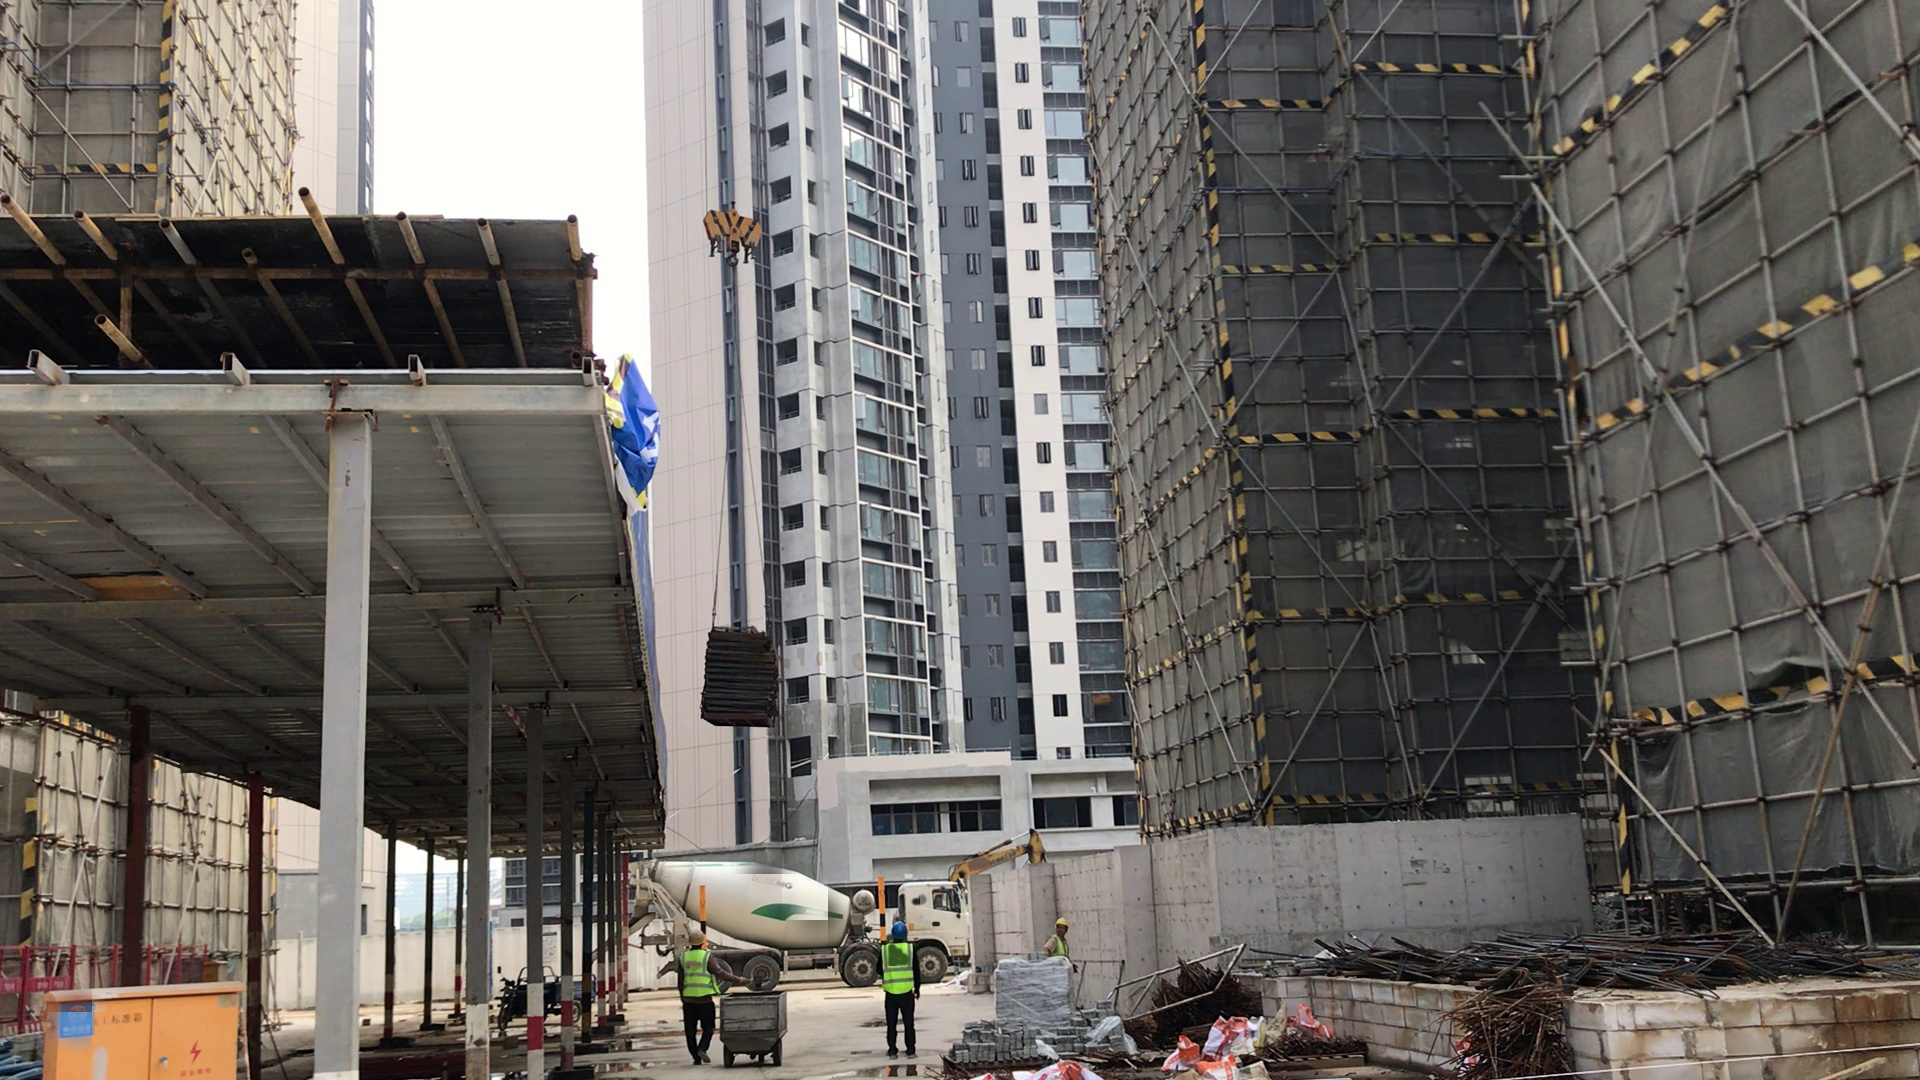helmet: (891, 922, 913, 941), (689, 928, 706, 947), (1055, 915, 1071, 930)
person: (671, 923, 727, 1072), (878, 914, 928, 1062), (1044, 913, 1075, 962)
vest: (680, 951, 727, 1001), (880, 945, 919, 997), (1048, 932, 1071, 959)
